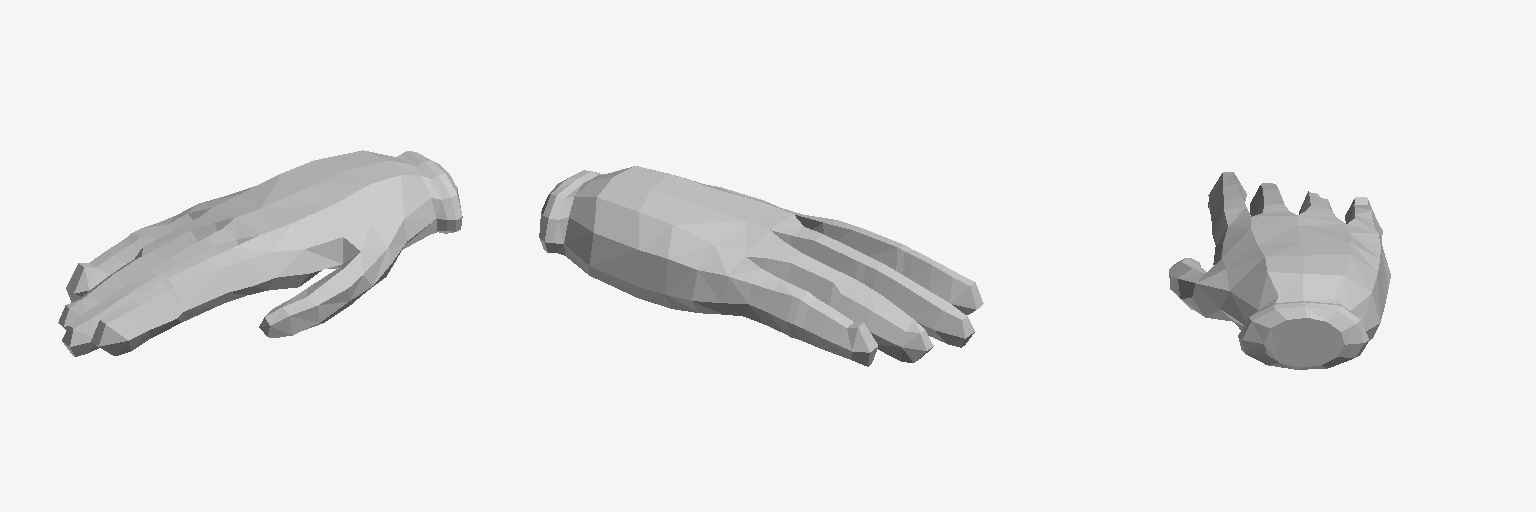
File: hand.obj
The picture shows the model from 3 angles: view 1: azimuth 30°, elevation 25°; view 2: azimuth 150°, elevation 25°; view 3: azimuth 270°, elevation 25°; orthographic projection.
Visible parts, largest first — view 1: modellll_Cube.002; view 2: modellll_Cube.002; view 3: modellll_Cube.002.
Part boxes in pixels (bbox=[...]): modellll_Cube.002: bbox=[58, 150, 462, 356]; modellll_Cube.002: bbox=[539, 166, 983, 366]; modellll_Cube.002: bbox=[1169, 172, 1390, 369].
Bounding box in the file's own units: 0.2103 × 0.0533 × 0.103.